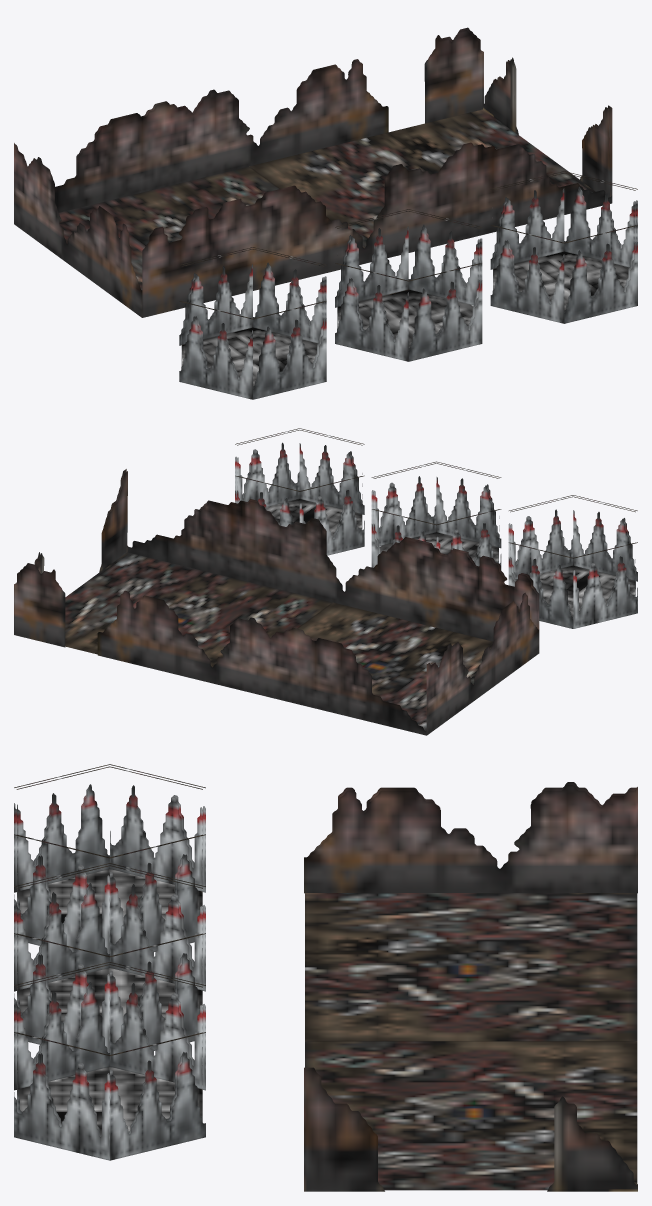
The model's file is wasteprocessor_dam.glb.
3 views of the same model, one above another, from view 1: azimuth 30°, elevation 25°; view 2: azimuth 150°, elevation 25°; view 3: azimuth 270°, elevation 25° (orthographic). The views are drawn at different scales.
Parts seen in each view (by area): view 1: WasteProcessor; view 2: WasteProcessor; view 3: WasteProcessor.
Boxes of the visible parts, x1,y1,x2,y2 form: WasteProcessor: (14, 27, 637, 399); WasteProcessor: (14, 428, 637, 735); WasteProcessor: (14, 764, 637, 1191).
Bounding box in the file's own units: 16.73 × 3 × 13.68.
1 material, 1 textured.
